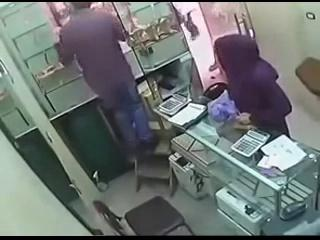Normal: (46, 3, 158, 160), (213, 35, 293, 138)
